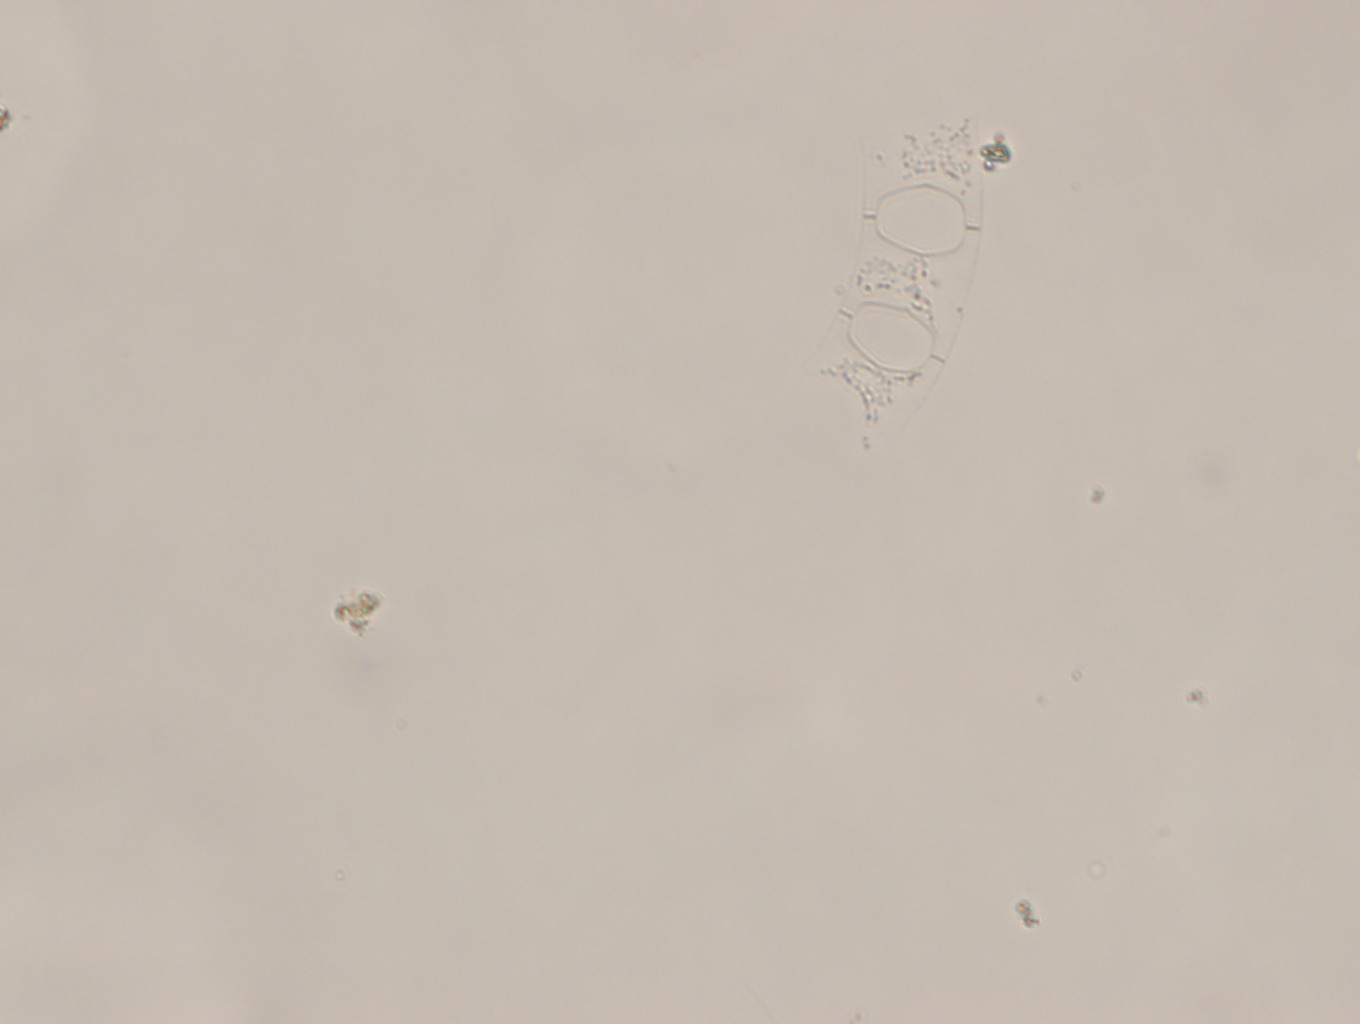eucampia: (793, 100, 983, 465)
